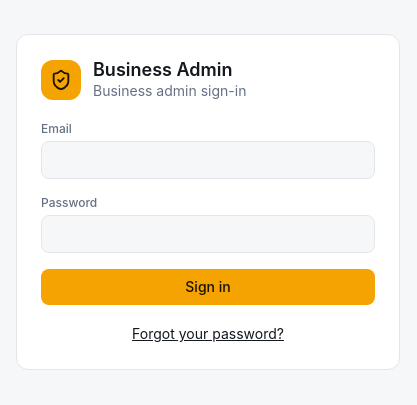
the two sign-ins › a wrong password shows the server message and keeps the form
This screenshot has width=417, height=405.
Type "b@x.test" into the field labelled "Email" at [208, 160], box [41, 141, 375, 179]
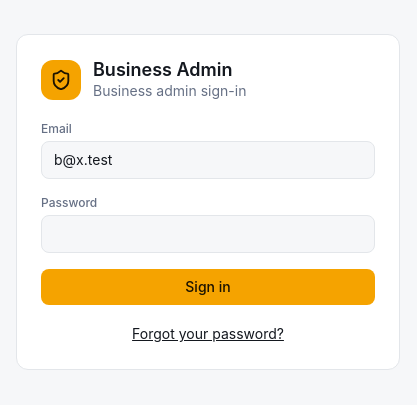
Type "nope" into the password field labelled "Password" at [208, 234], box [41, 215, 375, 253]
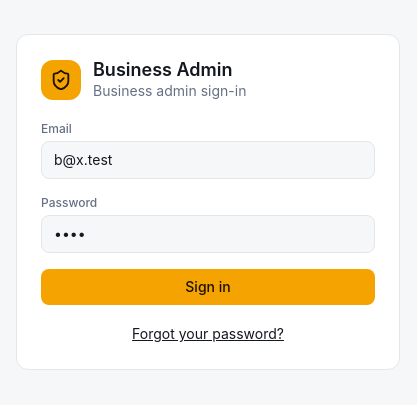
Click the button "Sign in" at [208, 287], box [41, 269, 375, 305]
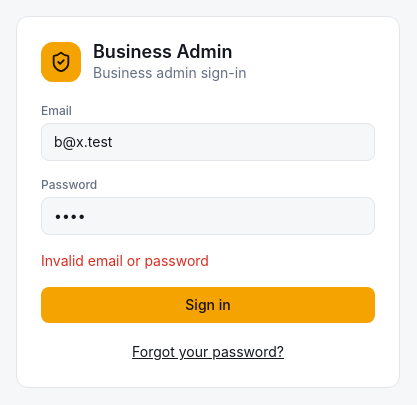
Check: the message reads "Invalid email or password", box [41, 252, 209, 269]
